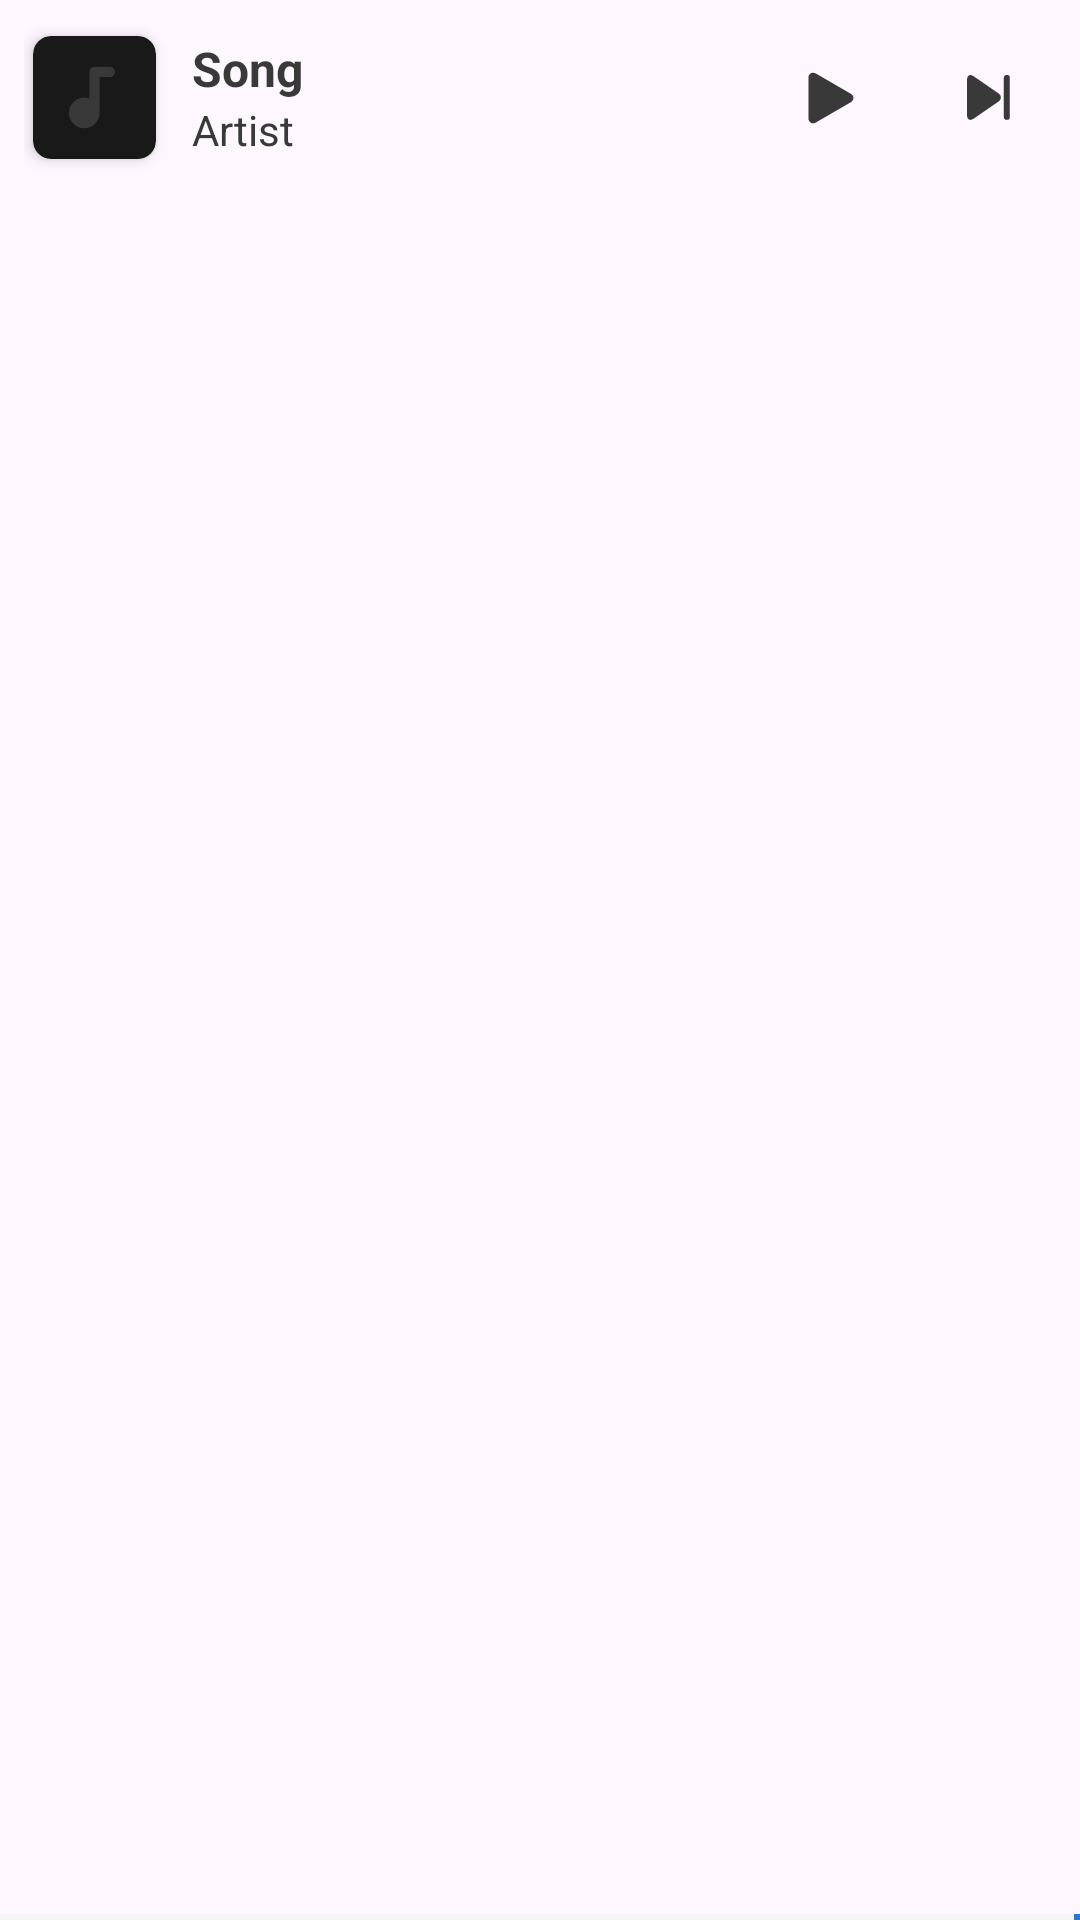

Screen size 1080*1920. Icon name, then its center in pixels as [x,y]:
music: [94,97]
next mini: [988,97]
play mini: [831,98]
